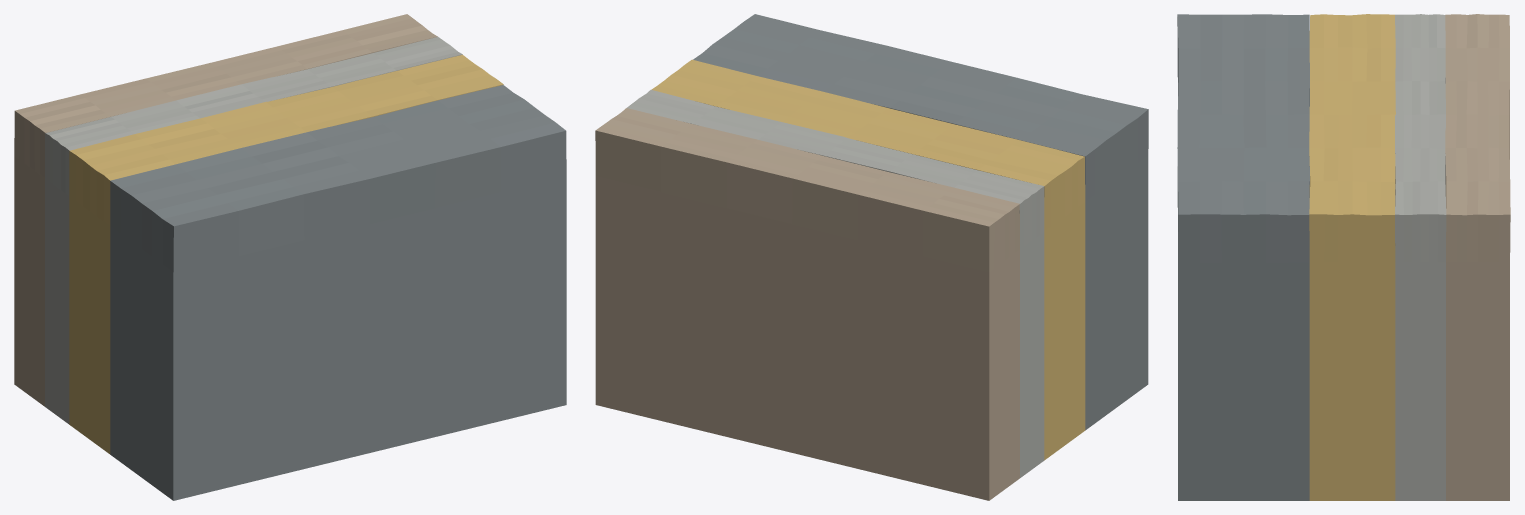
Rendered from underground_strata.glb.
3 renders of one model, left to right at view 1: azimuth 30°, elevation 25°; view 2: azimuth 150°, elevation 25°; view 3: azimuth 270°, elevation 25°, orthographic. The views are drawn at different scales.
Visible parts, largest first — view 1: geo_basement, geo_reservoir_layer, geo_overburden, geo_caprock; view 2: geo_overburden, geo_basement, geo_reservoir_layer, geo_caprock; view 3: geo_basement, geo_reservoir_layer, geo_overburden, geo_caprock.
Boxes of the visible parts, left/top/right/bottom form: geo_basement: left=110, top=85, right=566, bottom=500; geo_reservoir_layer: left=69, top=54, right=503, bottom=454; geo_overburden: left=14, top=14, right=437, bottom=406; geo_caprock: left=45, top=37, right=462, bottom=424; geo_overburden: left=595, top=108, right=1019, bottom=500; geo_basement: left=693, top=14, right=1148, bottom=430; geo_reservoir_layer: left=651, top=59, right=1085, bottom=460; geo_caprock: left=627, top=89, right=1044, bottom=477; geo_basement: left=1177, top=14, right=1309, bottom=500; geo_reservoir_layer: left=1309, top=14, right=1395, bottom=500; geo_overburden: left=1445, top=14, right=1510, bottom=500; geo_caprock: left=1395, top=14, right=1446, bottom=500.
Bounding box in the file's own units: 18.02 × 12.02 × 12.66.
